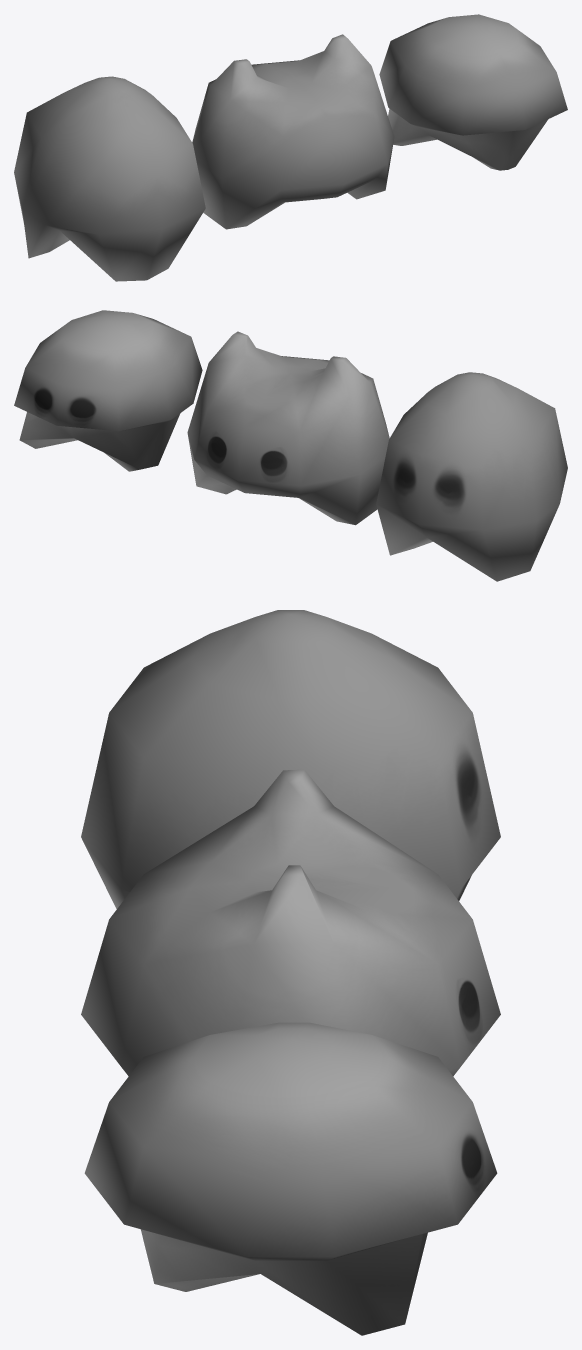
The model's file is Alien.fbx.
3 renders of one model, top to bottom at view 1: azimuth 30°, elevation 25°; view 2: azimuth 150°, elevation 25°; view 3: azimuth 270°, elevation 25°, orthographic. The views are drawn at different scales.
Parts seen in each view (by area): view 1: Alien1, Alien2, Alien3; view 2: Alien1, Alien2, Alien3; view 3: Alien3, Alien2, Alien1.
Boxes of the visible parts, left/top/right/bottom form: Alien1: left=14, top=76, right=205, bottom=281; Alien2: left=192, top=34, right=394, bottom=229; Alien3: left=379, top=14, right=567, bottom=170; Alien1: left=376, top=372, right=567, bottom=581; Alien2: left=187, top=331, right=389, bottom=525; Alien3: left=14, top=310, right=202, bottom=471; Alien3: left=84, top=1022, right=497, bottom=1335; Alien2: left=81, top=769, right=500, bottom=1076; Alien1: left=81, top=610, right=500, bottom=908.
Size of the model in its own units: 565567 by 183119 by 200000.
1 material, 1 textured.
